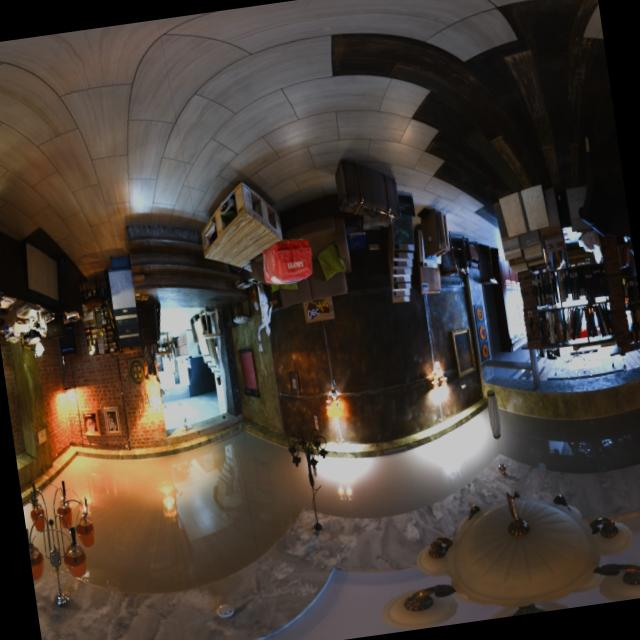mate bag: (262, 238, 316, 294)
